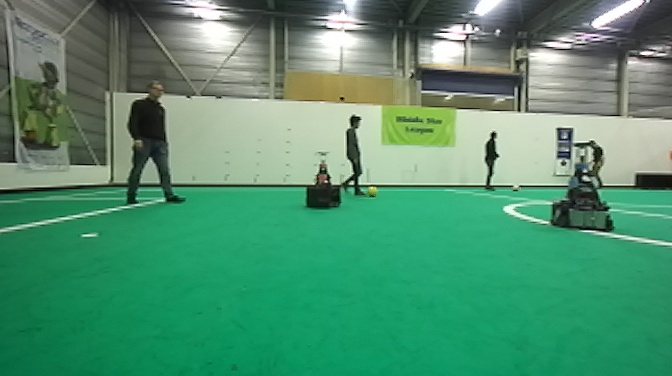ball: (365, 184, 381, 199), (510, 183, 521, 192)
human: (125, 81, 188, 206), (339, 112, 367, 196), (482, 129, 503, 192), (587, 140, 605, 188)
robot: (551, 141, 616, 234), (305, 148, 340, 210)
